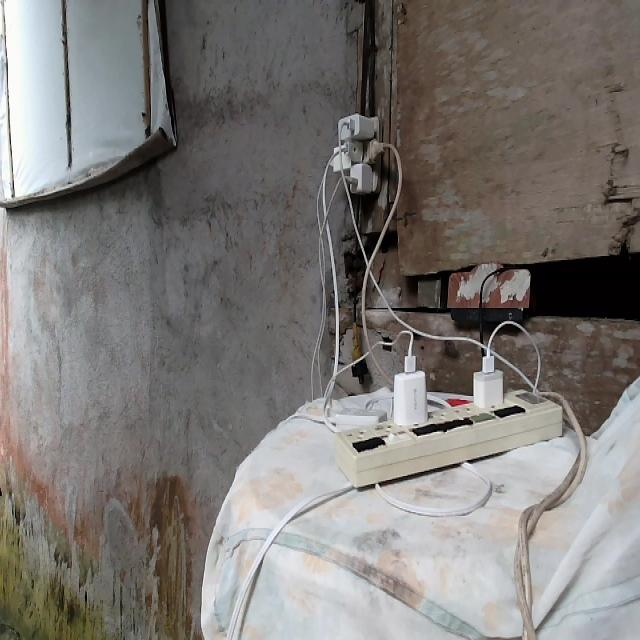-: (327, 109, 391, 195)
